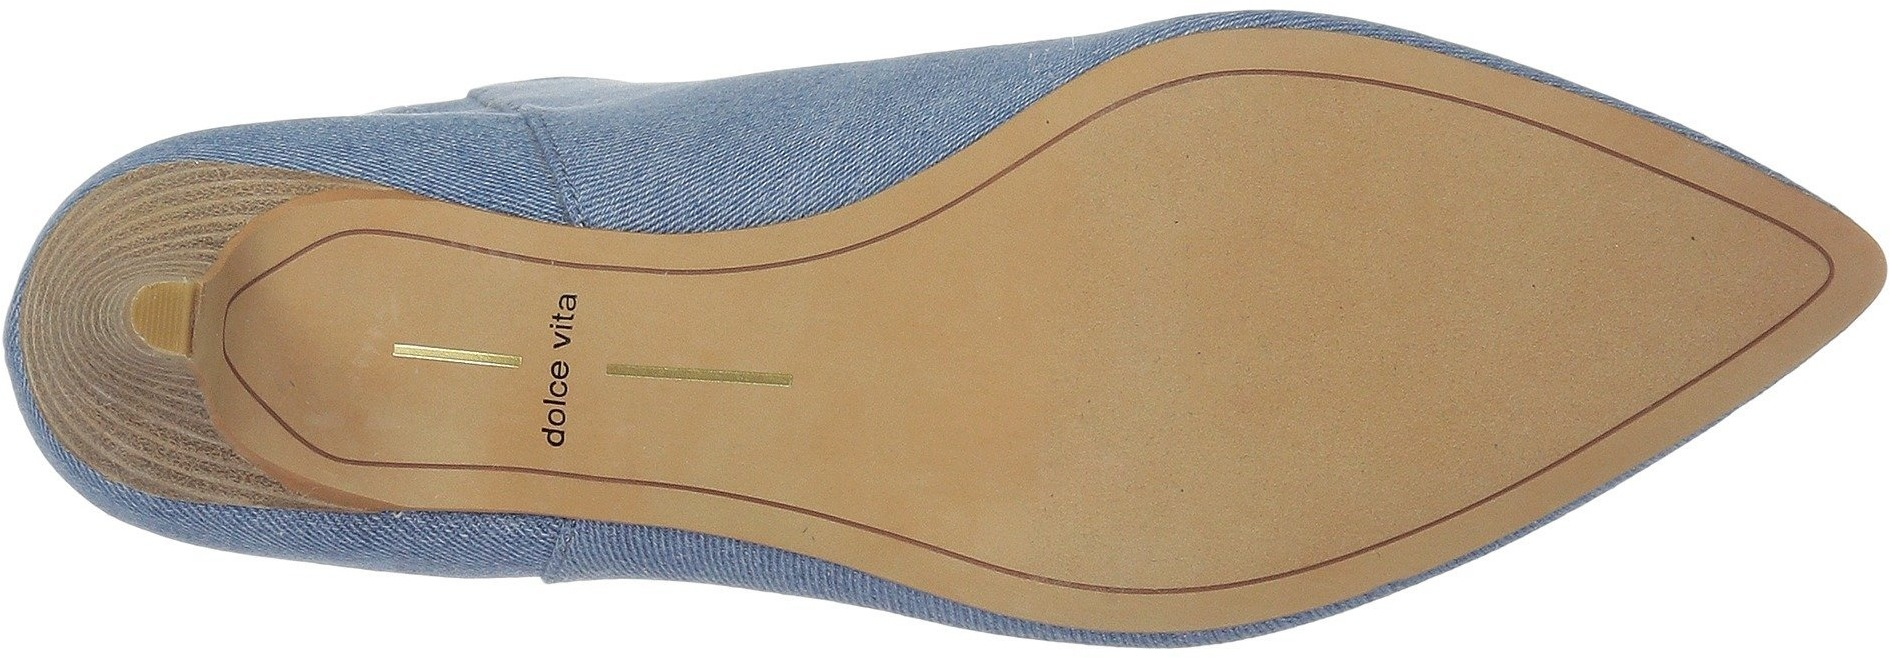exclude: (170, 114, 887, 610)
other: (1147, 112, 1405, 363), (896, 241, 1139, 484), (1411, 175, 1633, 407), (1147, 368, 1342, 563), (1638, 208, 1761, 340), (1348, 409, 1455, 513), (137, 290, 193, 343)
